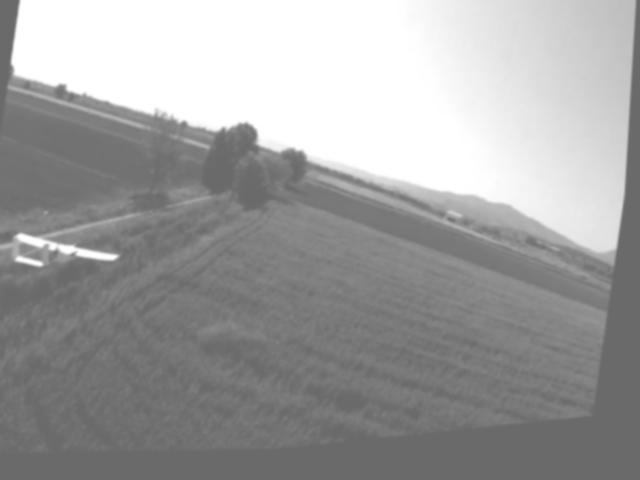hedef: (4, 214, 131, 294)
